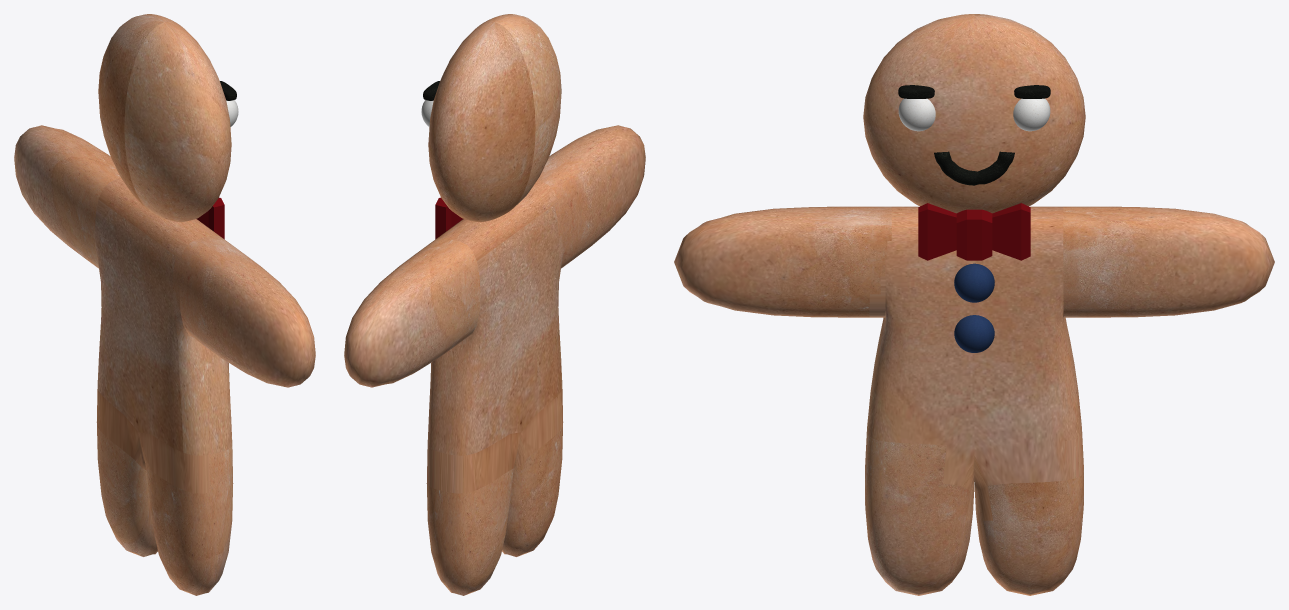
The model's file is gingerbread.fbx.
The picture shows the model from 3 angles, left to right: view 1: azimuth 30°, elevation 25°; view 2: azimuth 150°, elevation 25°; view 3: azimuth 270°, elevation 25°; orthographic projection. The views are drawn at different scales.
Parts seen in each view (by area): view 1: Circle.001; view 2: Circle.001; view 3: Circle.001.
Part boxes in pixels (left/top/right/bottom): Circle.001: left=14, top=14, right=315, bottom=595; Circle.001: left=344, top=14, right=645, bottom=595; Circle.001: left=674, top=14, right=1274, bottom=595.
Bounding box in the file's own units: 92.67 × 575 × 540.
